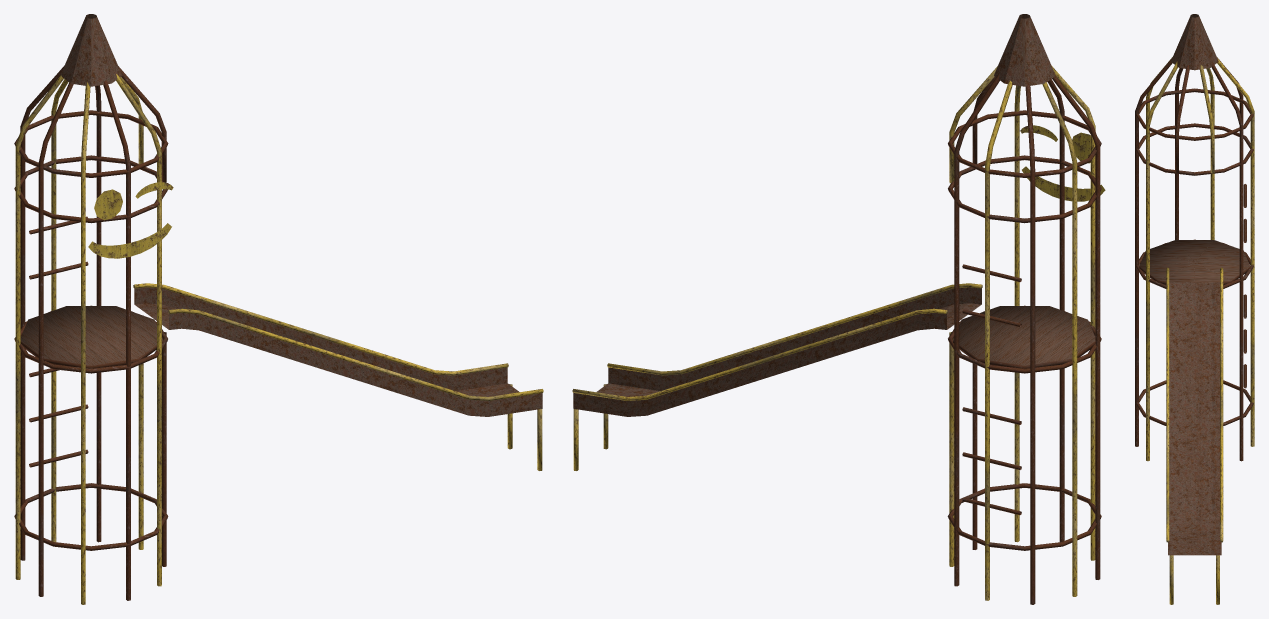
The model's file is playground_rocket_slide_lod2_web.glb.
3 renders of one model, left to right at view 1: azimuth 30°, elevation 25°; view 2: azimuth 150°, elevation 25°; view 3: azimuth 270°, elevation 25°, orthographic. The views are drawn at different scales.
Visible parts, largest first — view 1: RocketSlide_Mesh; view 2: RocketSlide_Mesh; view 3: RocketSlide_Mesh.
Part boxes in pixels (x1=…): RocketSlide_Mesh: x1=14, y1=14, x2=543, y2=604; RocketSlide_Mesh: x1=572, y1=14, x2=1105, y2=604; RocketSlide_Mesh: x1=1135, y1=14, x2=1254, y2=604.
Size of the model in its own units: 3.5 by 3.7 by 0.9352.
Materials: 4 (4 with a texture image).
